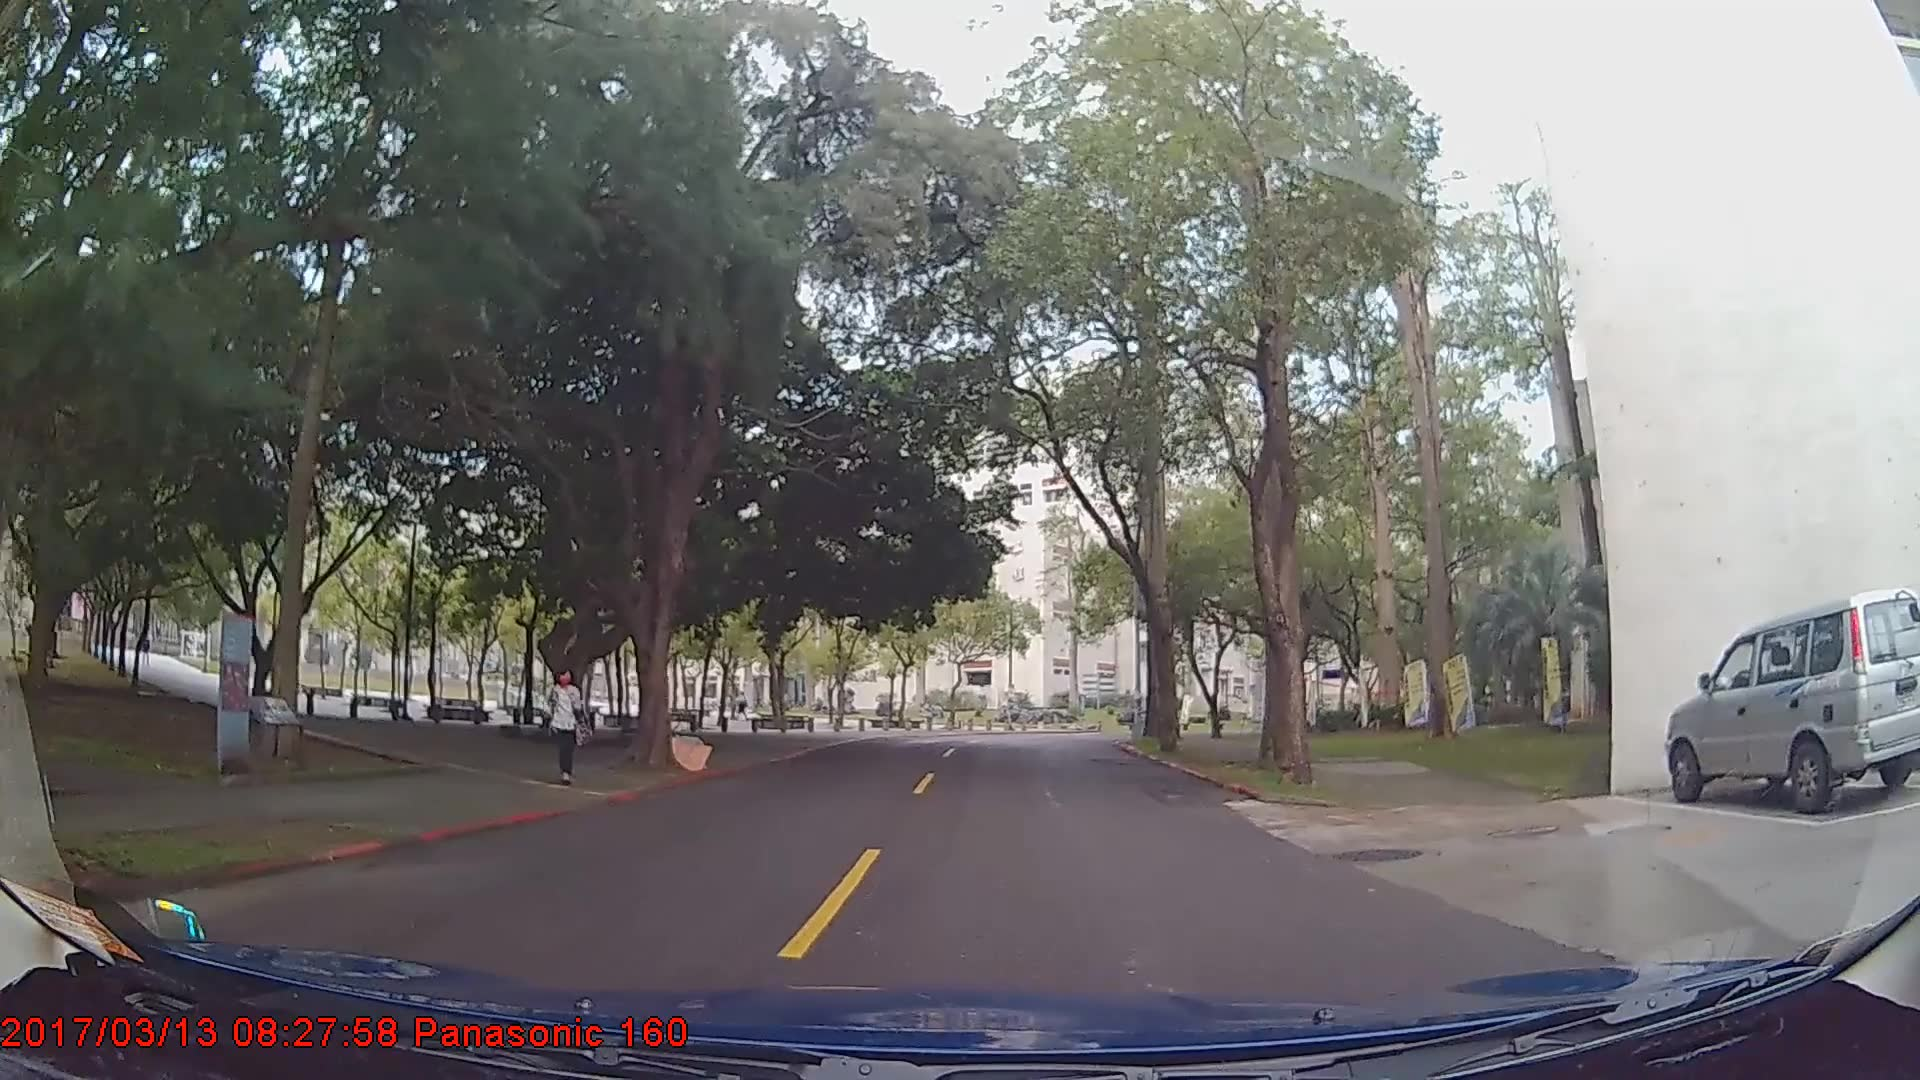pedestrian: (543, 664, 590, 782)
vehicle: (1664, 585, 1920, 817)
